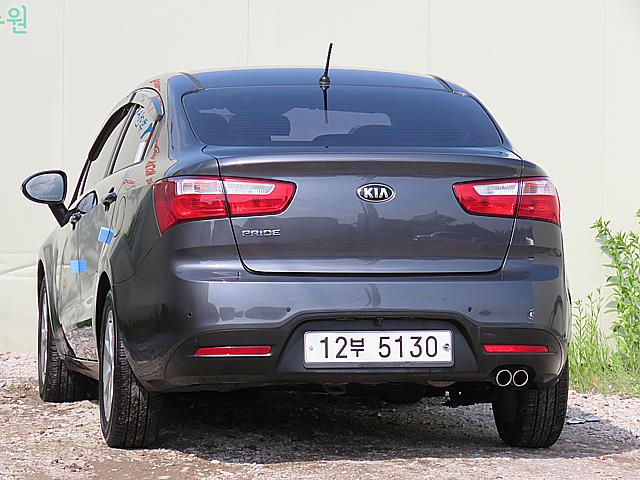plate: (304, 332, 450, 363)
